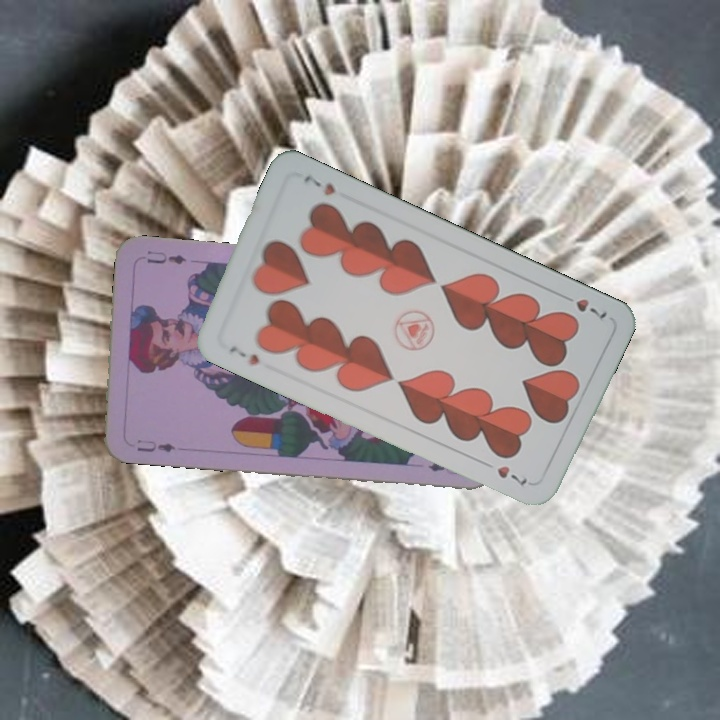EU: (132, 435, 178, 455)
H7: (556, 289, 610, 322), (225, 340, 262, 368)
